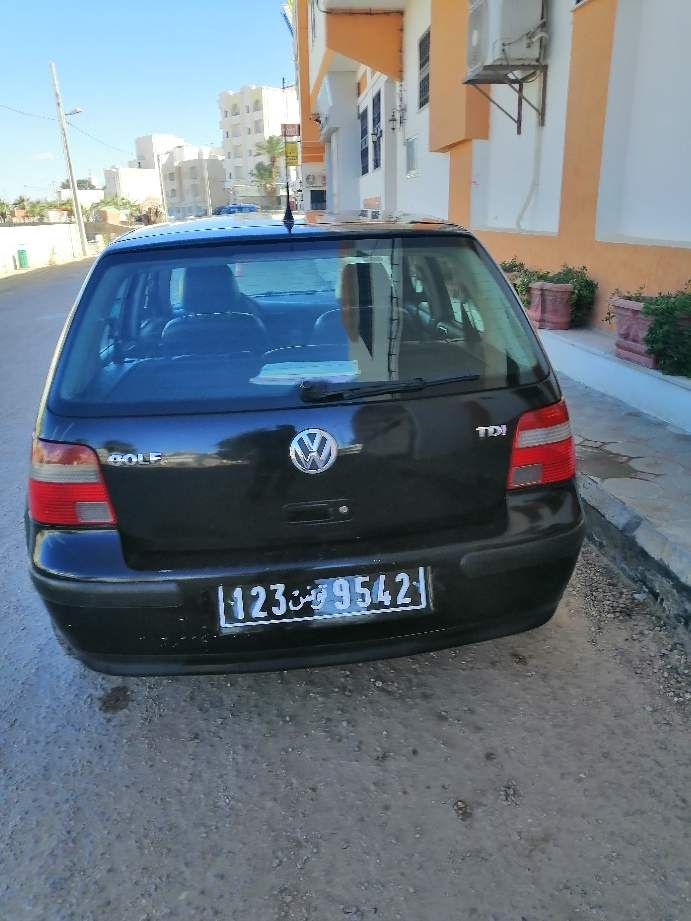LP: (222, 565, 427, 628)
